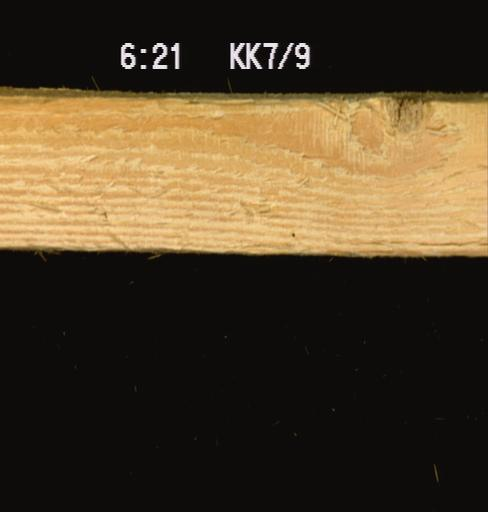edge_knot: (373, 94, 466, 147)
split: (182, 97, 290, 110)
